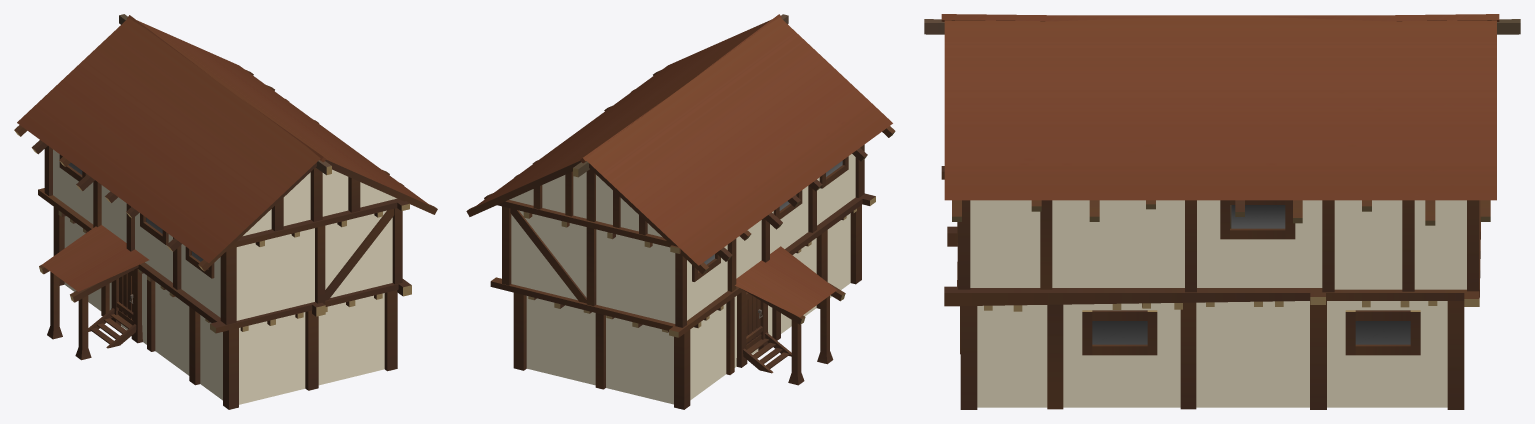
File: House_8_LOD1.fbx
3 views of the same model, side by side, from view 1: azimuth 30°, elevation 25°; view 2: azimuth 150°, elevation 25°; view 3: azimuth 270°, elevation 25° (orthographic). The views are drawn at different scales.
Visible parts, largest first — view 1: polySurface9617; view 2: polySurface9617; view 3: polySurface9617.
Part boxes in pixels (x1,y1,x2,y2): polySurface9617: [14, 14, 437, 409]; polySurface9617: [466, 14, 895, 409]; polySurface9617: [924, 14, 1520, 409].
Bounding box in the file's own units: 1053 × 855 × 1361.
